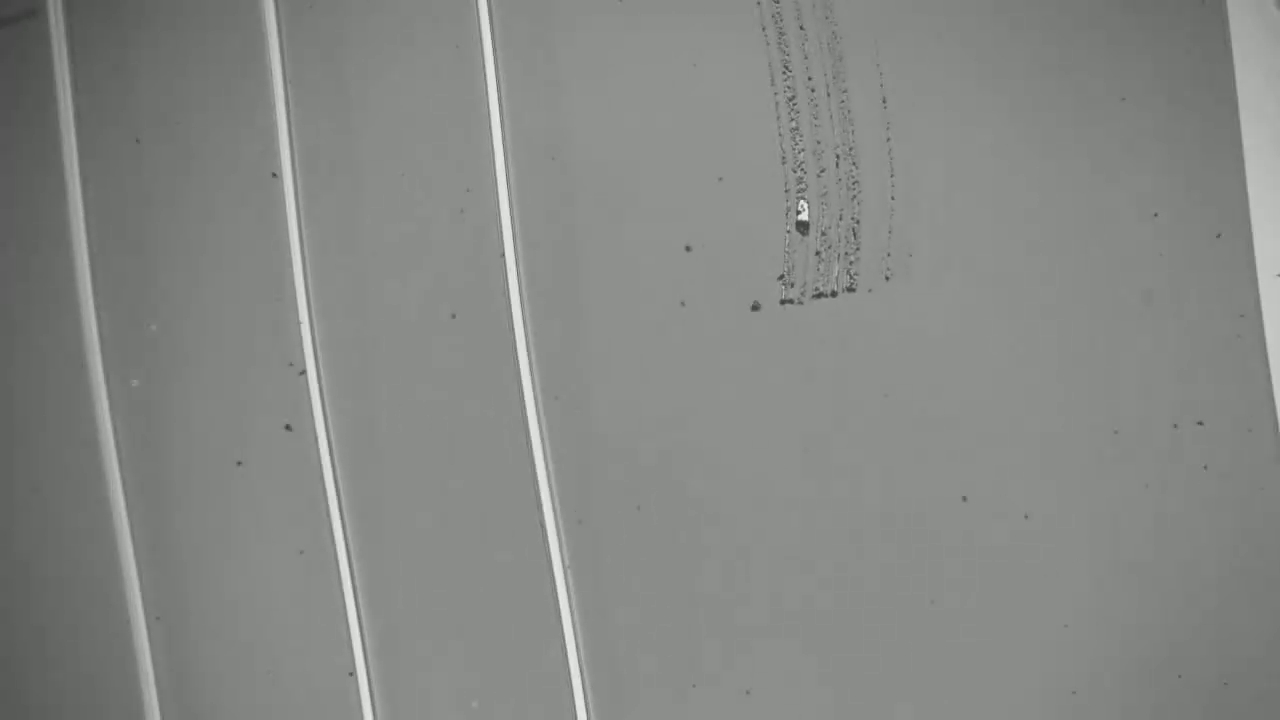scratch: (745, 1, 906, 327)
